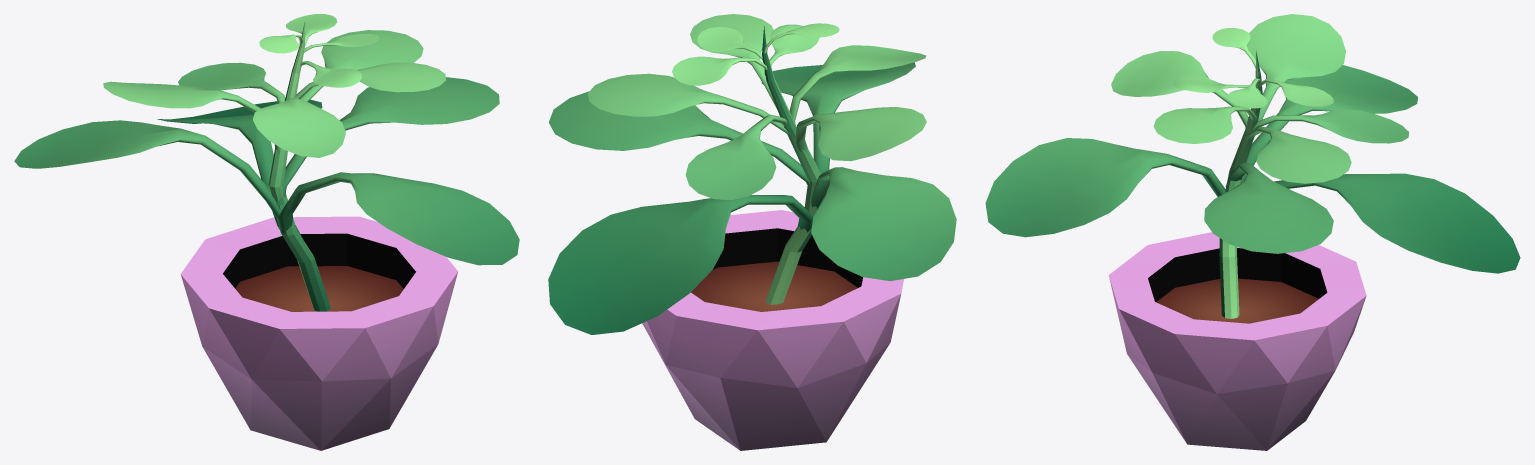
Rendered from Plant 3.fbx.
The picture shows the model from 3 angles, left to right: view 1: azimuth 30°, elevation 25°; view 2: azimuth 150°, elevation 25°; view 3: azimuth 270°, elevation 25°; orthographic projection. The views are drawn at different scales.
Parts seen in each view (by area): view 1: Pot 3, Plant 3; view 2: Plant 3, Pot 3; view 3: Plant 3, Pot 3.
Part boxes in pixels (left/top/right/bottom): Pot 3: left=180, top=216, right=458, bottom=450; Plant 3: left=14, top=14, right=519, bottom=311; Plant 3: left=548, top=14, right=956, bottom=334; Pot 3: left=642, top=210, right=903, bottom=450; Plant 3: left=985, top=14, right=1520, bottom=318; Pot 3: left=1108, top=232, right=1366, bottom=450.
Size of the model in its own units: 351 by 313 by 408.
